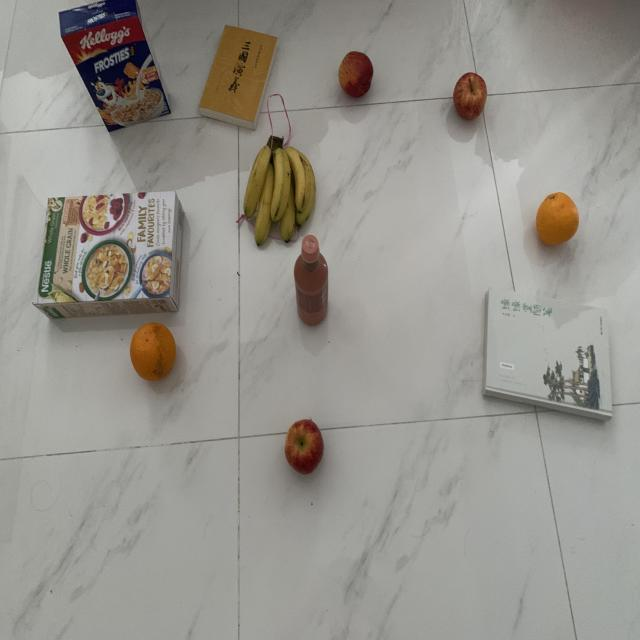Apple: (279, 419, 328, 478), (336, 48, 377, 99), (451, 71, 490, 124)
Banana: (242, 135, 318, 249)
Book: (482, 288, 618, 428), (197, 23, 278, 132)
Cerealbox: (32, 187, 185, 322), (57, 0, 174, 137)
Orange: (127, 322, 180, 384), (534, 192, 584, 254)
